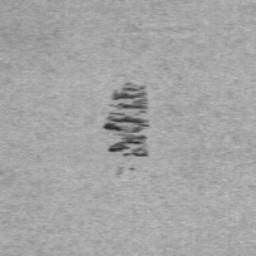Secondary rust skin: (103, 83, 149, 157)
